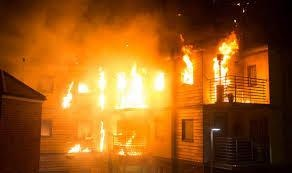fire: (68, 141, 90, 153)
